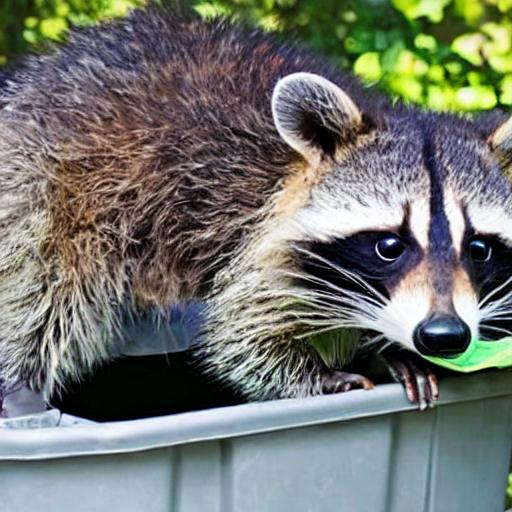raccoon: (0, 0, 512, 414)
